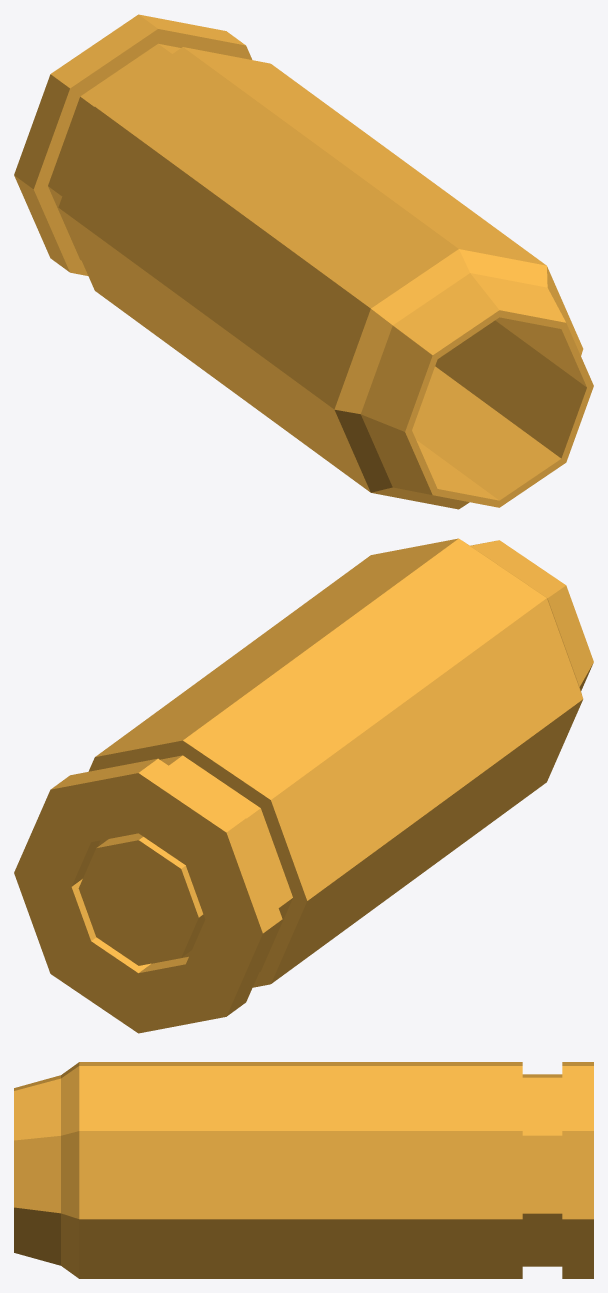
The model's file is shell.obj.
3 renders of one model, top to bottom at view 1: azimuth 30°, elevation 25°; view 2: azimuth 150°, elevation 25°; view 3: azimuth 270°, elevation 25°, orthographic. The views are drawn at different scales.
Visible parts, largest first — view 1: Cylinder.003; view 2: Cylinder.003; view 3: Cylinder.003.
Part boxes in pixels (<box>): Cylinder.003: <box>14,14,593,509</box>; Cylinder.003: <box>14,538,593,1033</box>; Cylinder.003: <box>14,1062,593,1278</box>.
Bounding box in the file's own units: 0.0894 × 0.0894 × 0.2246.
